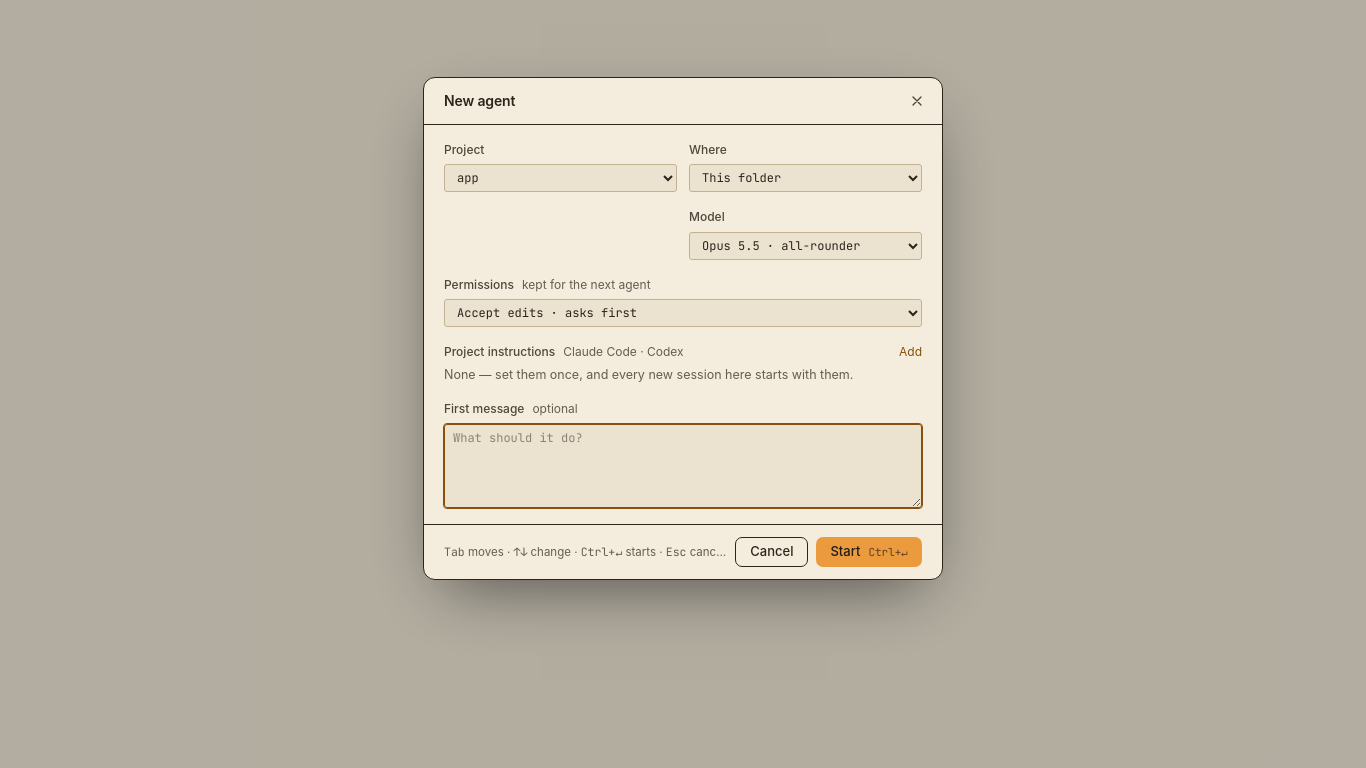
the one-time bypass consent › turns the daemon’s refusal into the warning, not an error line
Select "Bypass · never asks" in the dropdown labelled "Permissions kept for the next agent" at {"x": 683, "y": 313}, box [444,299,922,327]
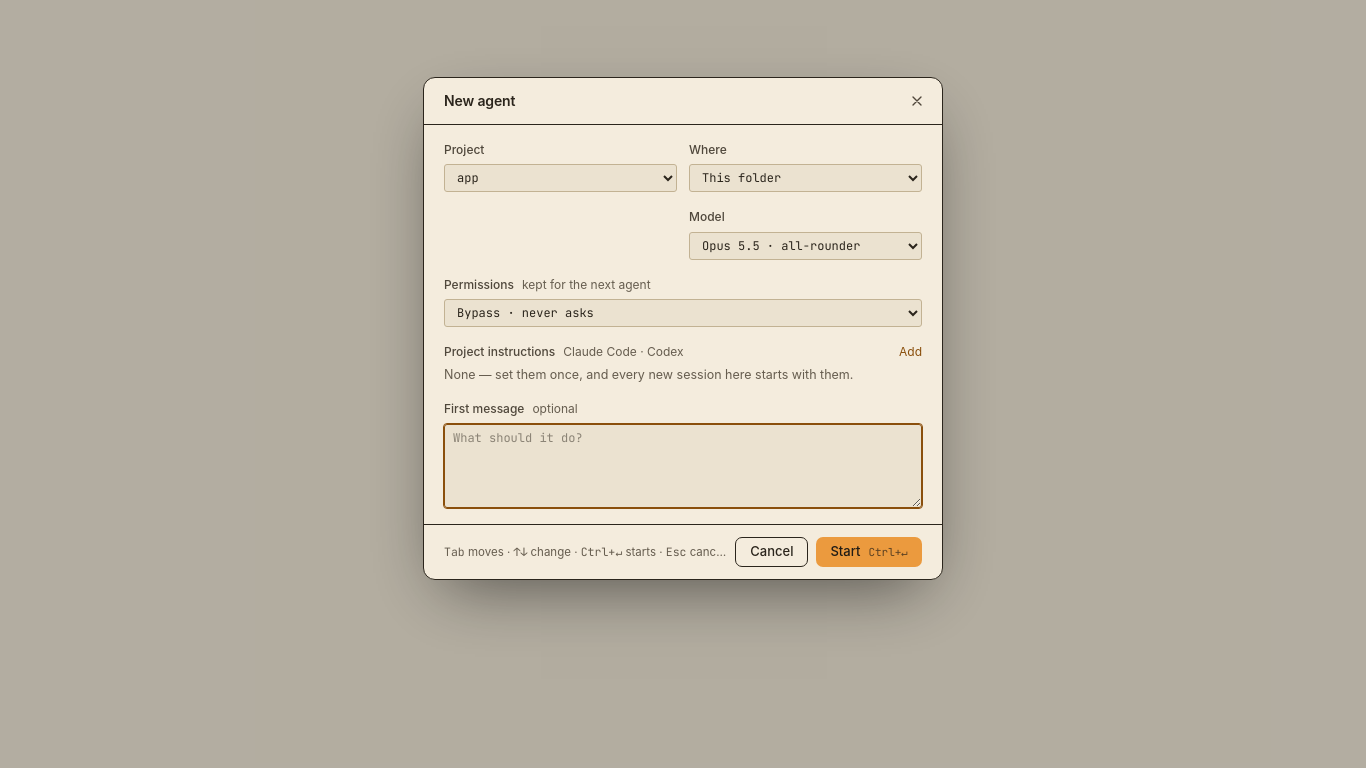
Click the button "Start" at {"x": 869, "y": 552}, box [816,537,922,567]
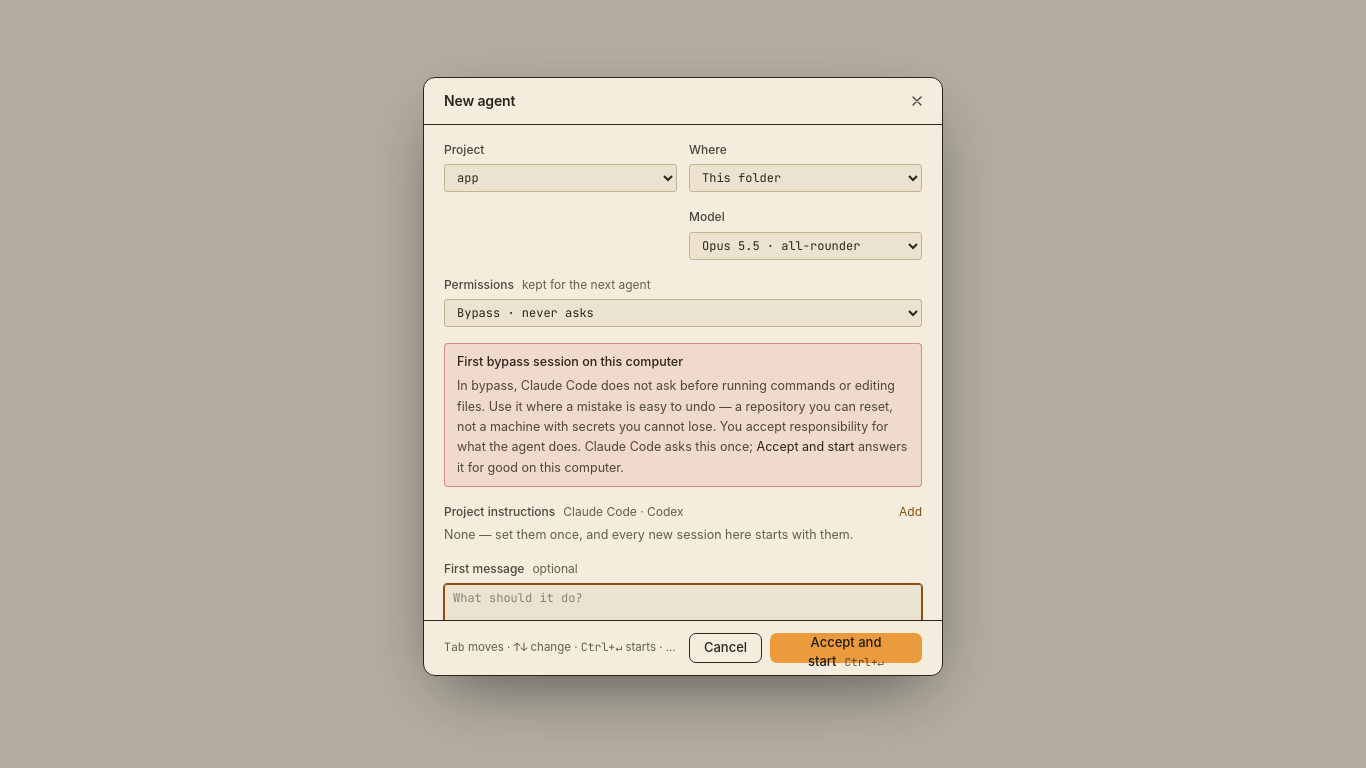
expect the element named "Bypass consent" is shown: met, box [444,343,922,487]
expect the button "Accept and start" is shown: met, box [770,633,922,663]
